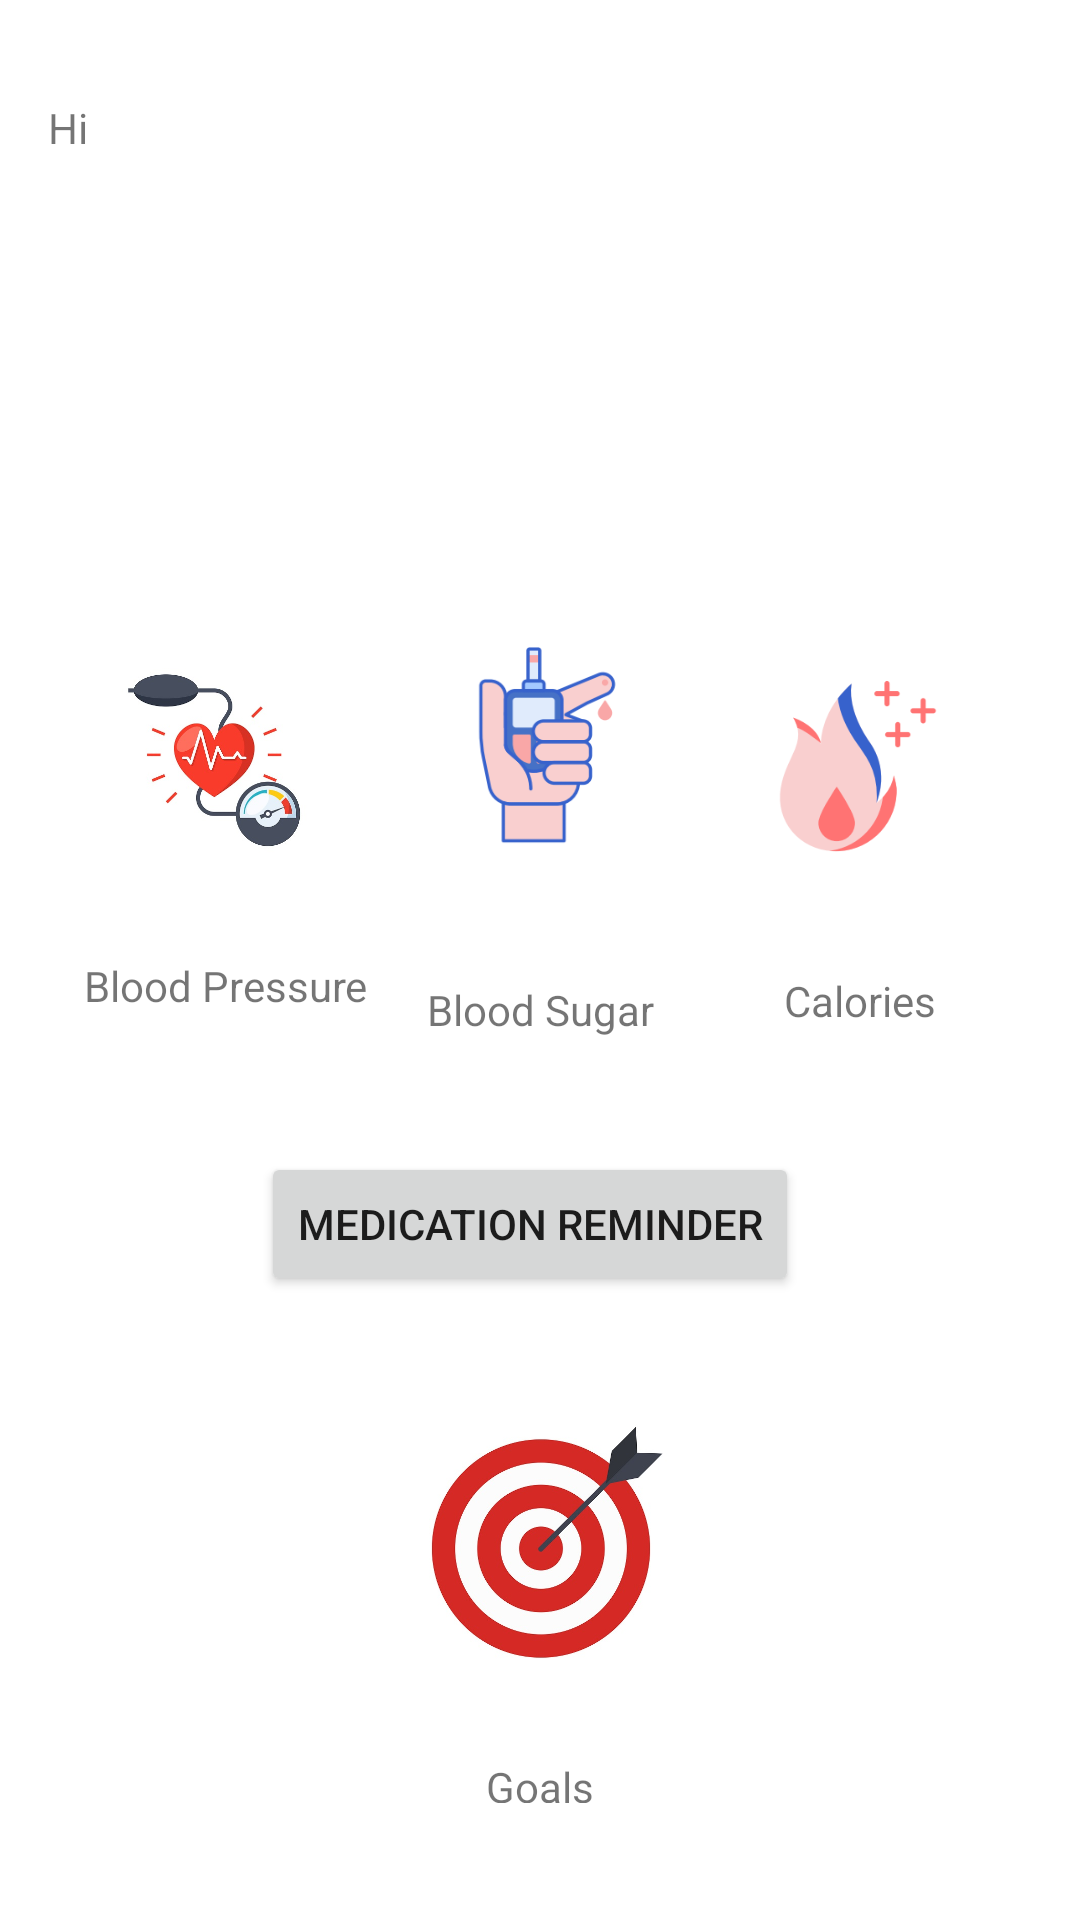

Named icons in this screenshot (1080px x 1920px) and their bounding boxes, (x1=x1, y1=y1, x2=x2, y2=y2):
tgoalicon: (x1=432, y1=1427, x2=662, y2=1658)
